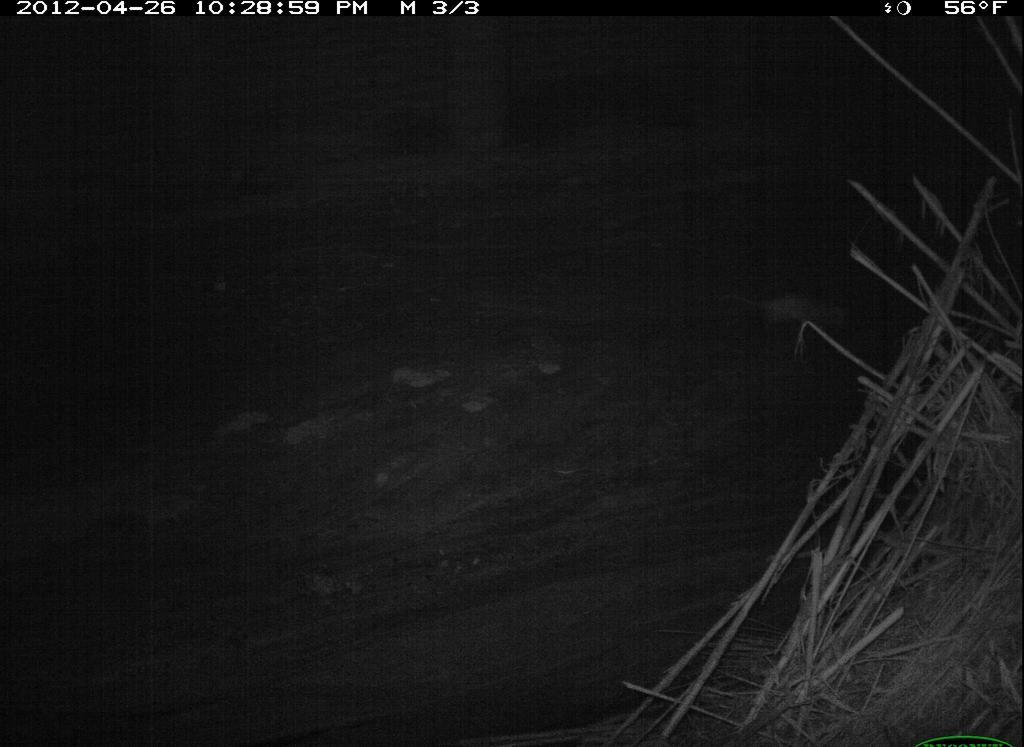opossum: (713, 269, 857, 349)
